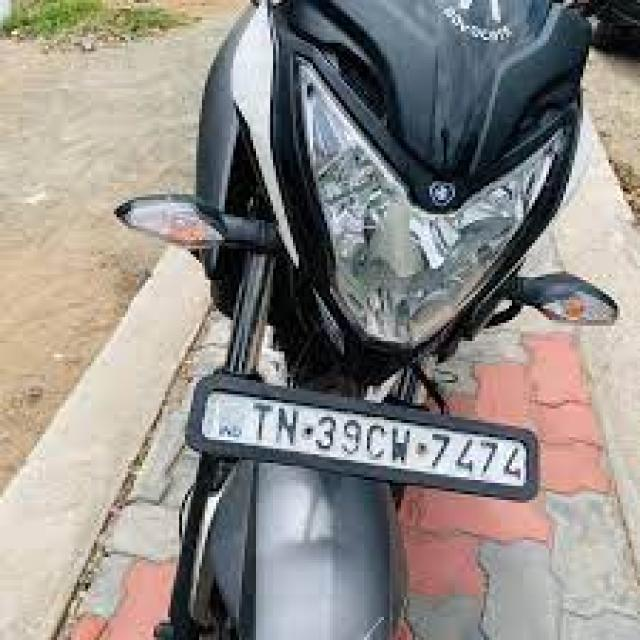number plate: (182, 366, 540, 500)
